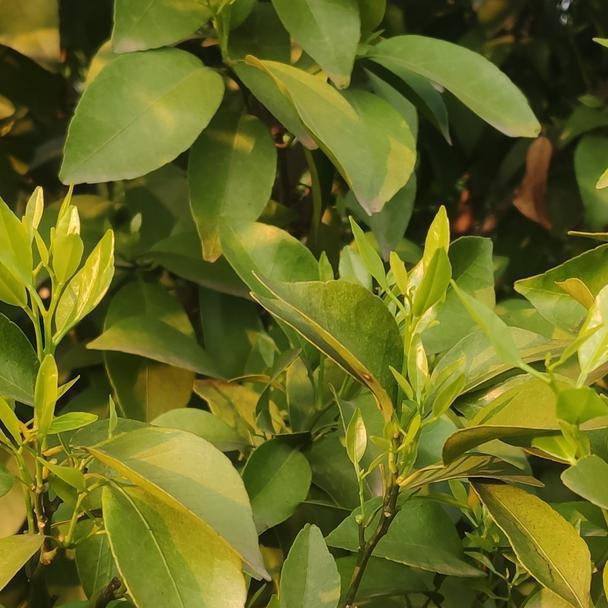shoot: (5, 199, 126, 393), (354, 218, 459, 372)
